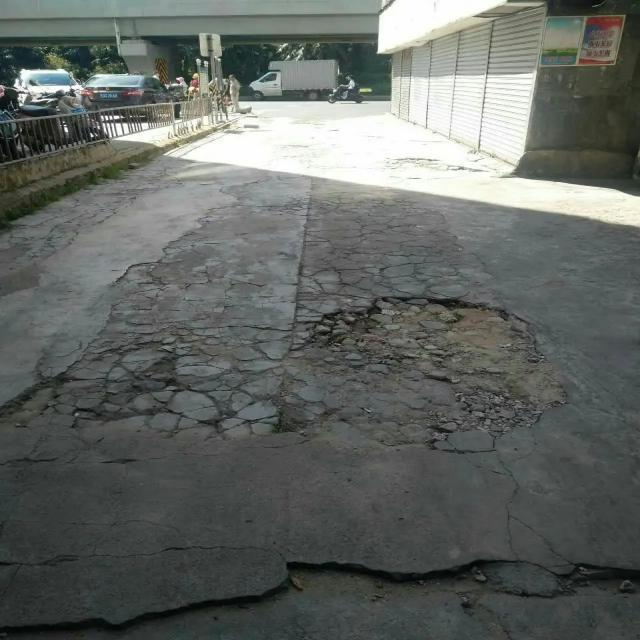pothole: (1, 560, 627, 636), (289, 296, 556, 450), (16, 339, 186, 432)
